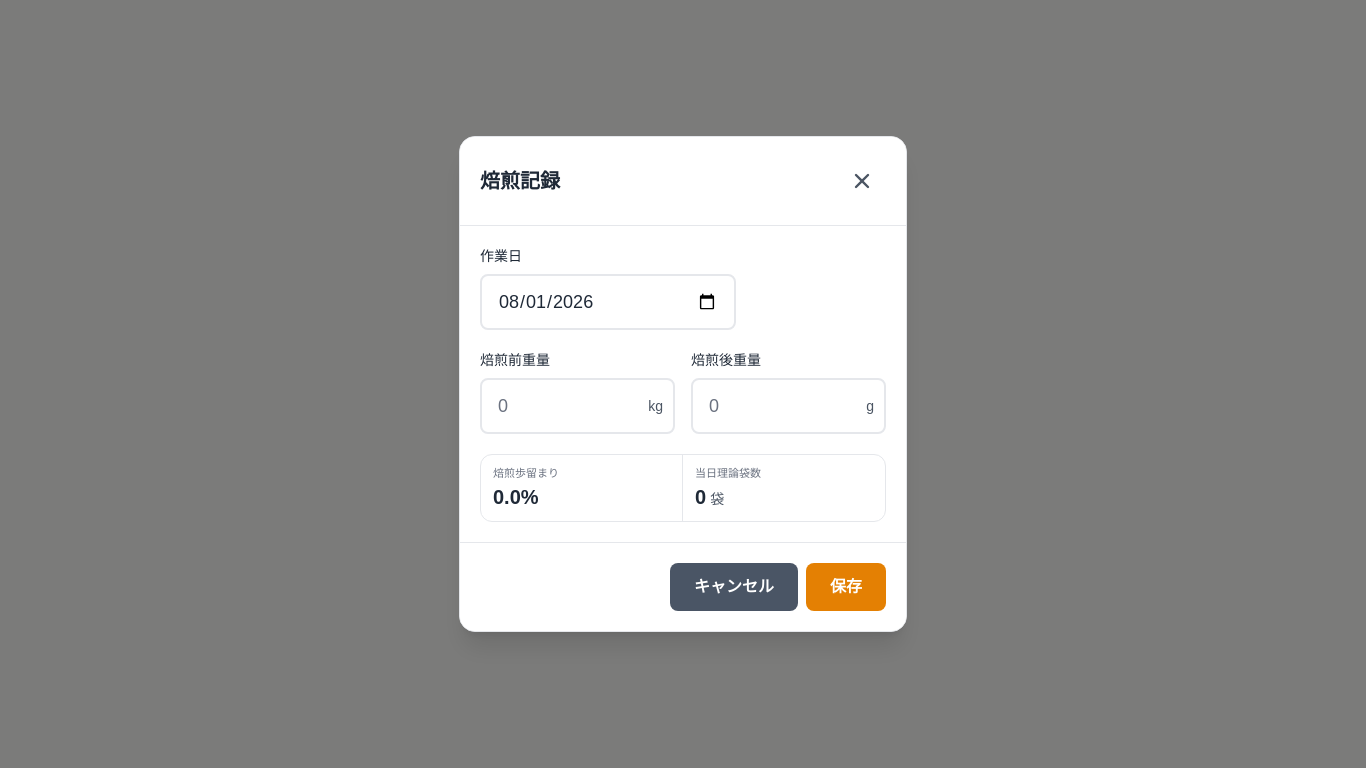
RoastEntryModal › 焙煎前重量が未入力だと保存できずエラーを表示する
Type "8000" into the number field labelled "焙煎後重量" at (788, 406), box 691,378 -> 886,434
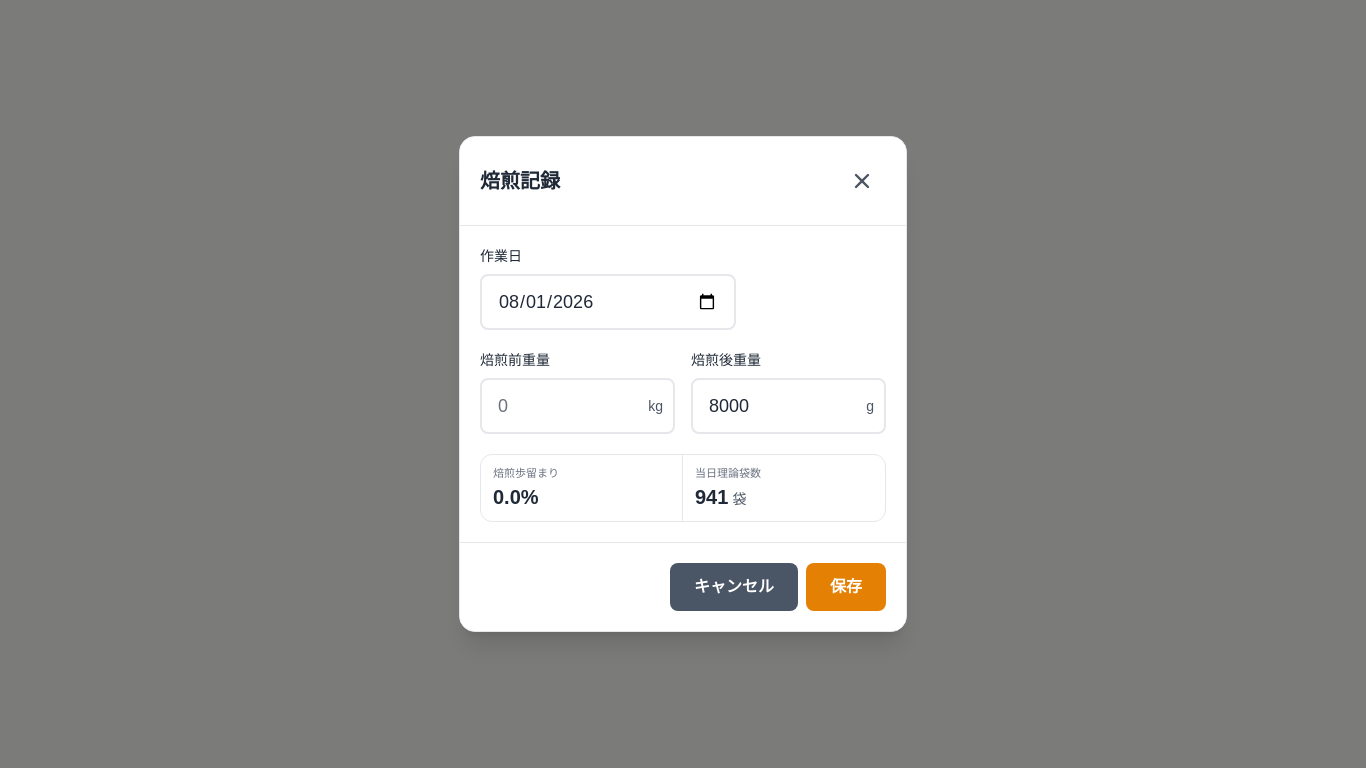
Click the button "保存" at (846, 587), box 806,563 -> 886,611
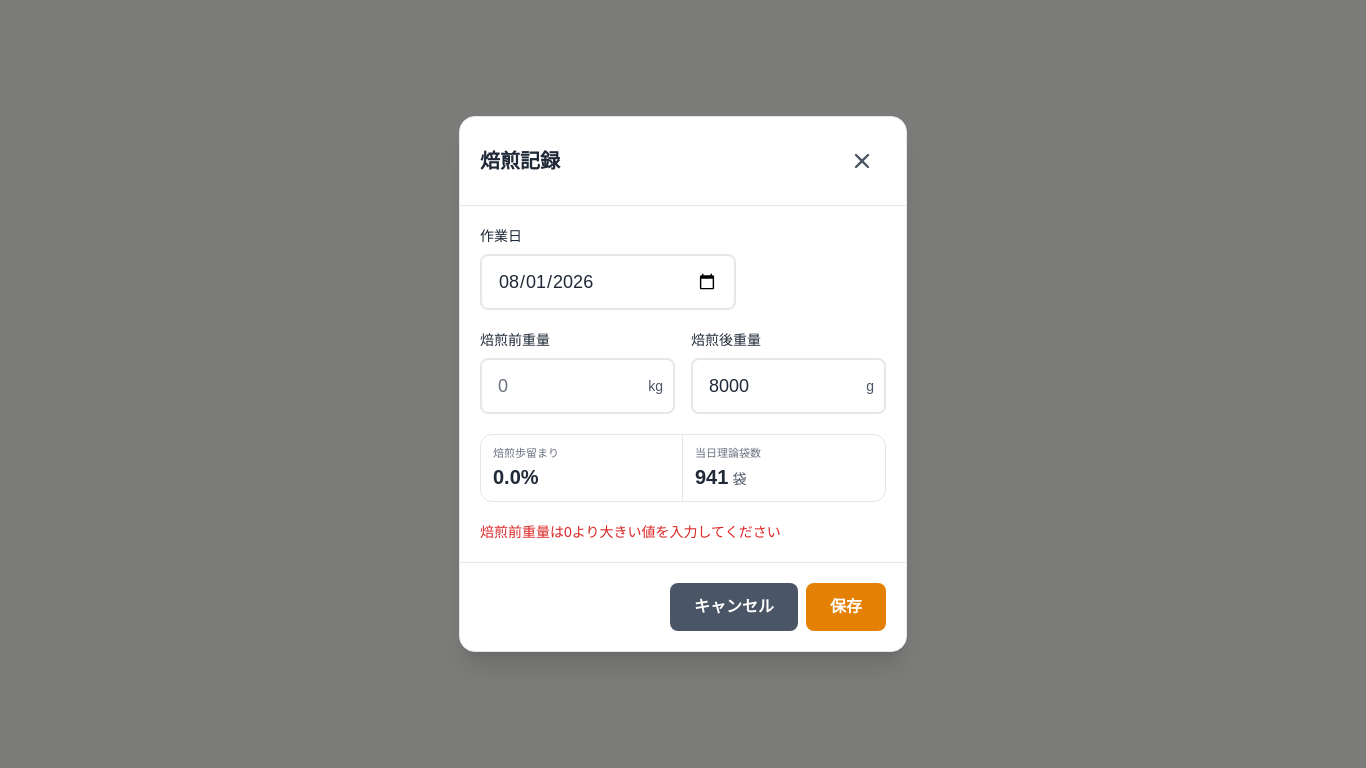
Expected: the message "焙煎前重量は0より大きい値を入力してください" is shown, 480,524 -> 781,540
